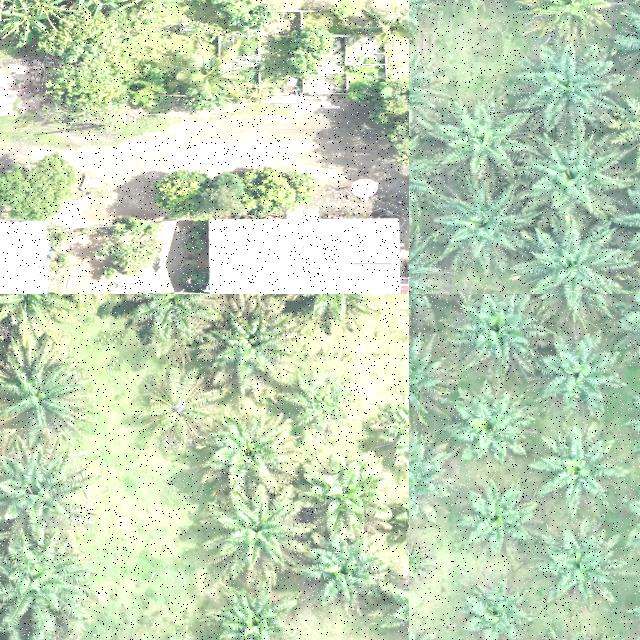Ganoderma: (154, 385, 206, 432), (541, 0, 597, 27)
